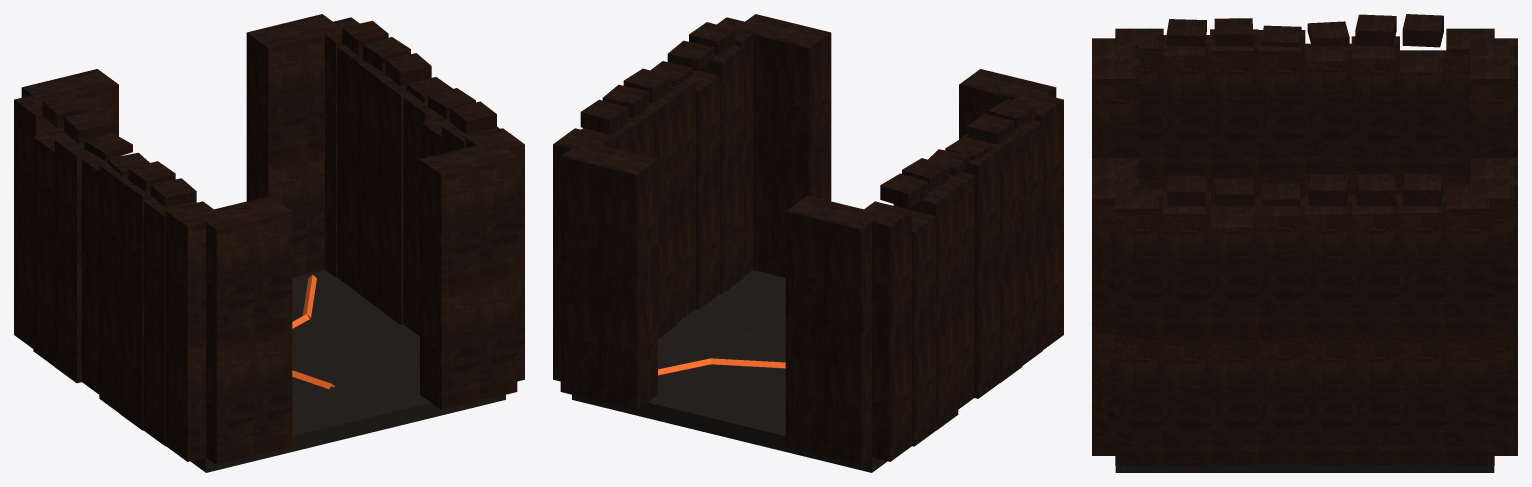
Rendered from cave_room_01_lava.glb.
3 views of the same model, side by side, from view 1: azimuth 30°, elevation 25°; view 2: azimuth 150°, elevation 25°; view 3: azimuth 270°, elevation 25° (orthographic). The views are drawn at different scales.
Visible parts, largest first — view 1: cave_room_01_lava; view 2: cave_room_01_lava; view 3: cave_room_01_lava.
Part boxes in pixels (left/top/right/bottom): cave_room_01_lava: left=14, top=14, right=524, bottom=472; cave_room_01_lava: left=553, top=14, right=1063, bottom=472; cave_room_01_lava: left=1092, top=14, right=1517, bottom=472.
Bounding box in the file's own units: 4.56 × 3.39 × 4.5.
Materials: 3 (3 with a texture image).
